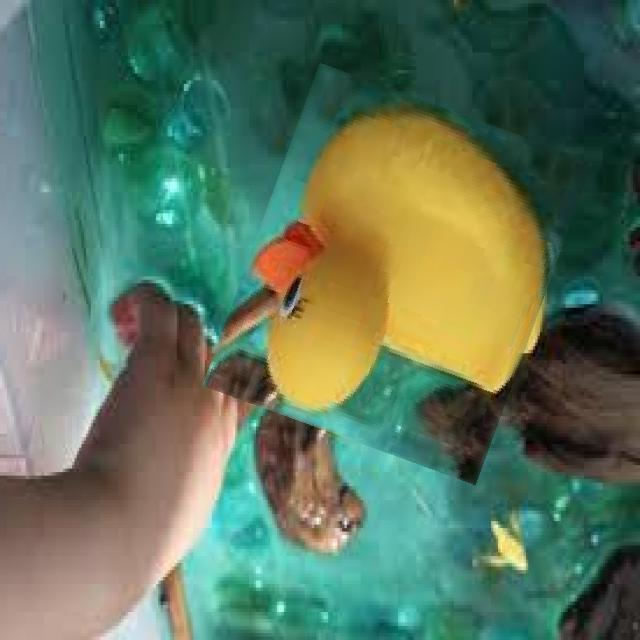rubber-duck: (207, 65, 544, 481)
